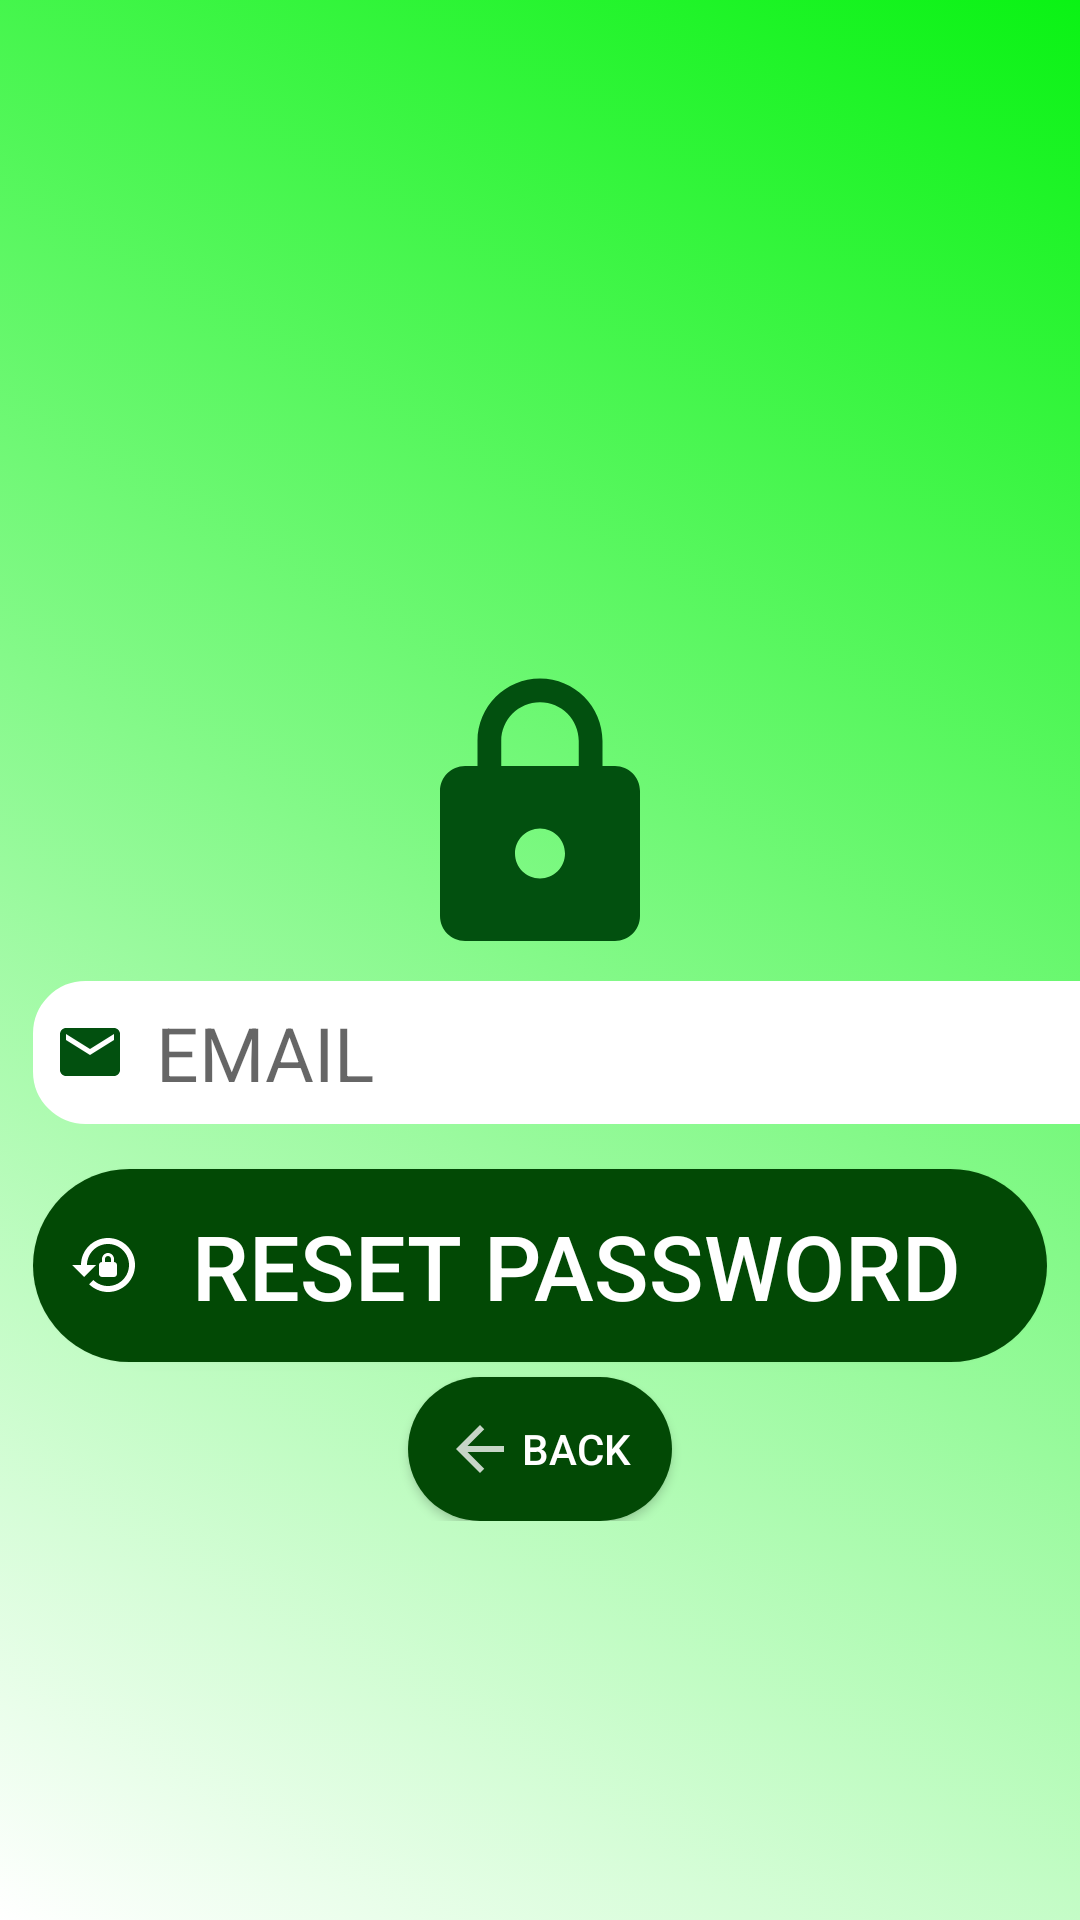

Locate icon controls on the screen. Image size 1080x1920, boxes as bbox=[x1, y1, x2, y2].
lock: bbox=[390, 678, 640, 966]
